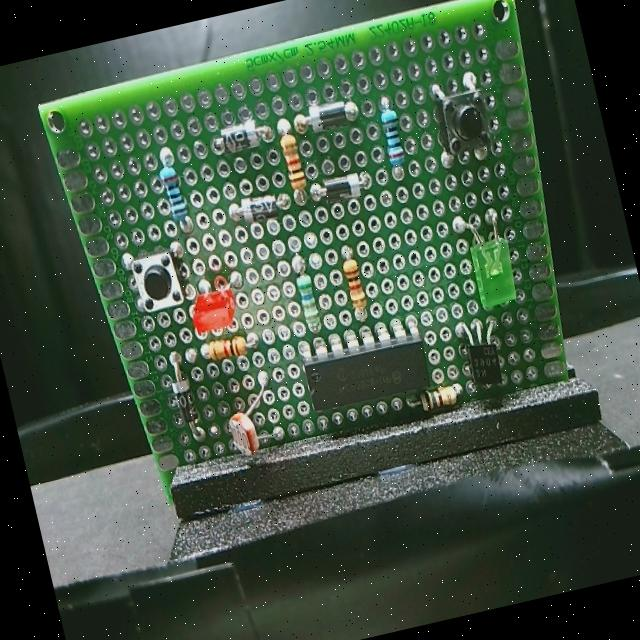IC: (300, 329, 441, 422)
cds: (213, 404, 268, 481)
diode: (162, 362, 204, 440), (227, 188, 290, 232), (210, 115, 268, 162), (316, 167, 374, 210), (301, 92, 359, 132)
led: (456, 219, 527, 320), (184, 278, 241, 340)
resistor: (372, 96, 419, 174), (328, 253, 374, 326), (274, 122, 312, 193), (287, 264, 326, 330), (200, 322, 256, 367), (154, 159, 190, 228), (418, 379, 466, 423)
switch: (429, 78, 504, 158), (123, 242, 188, 316)
transistor: (454, 326, 508, 399)
